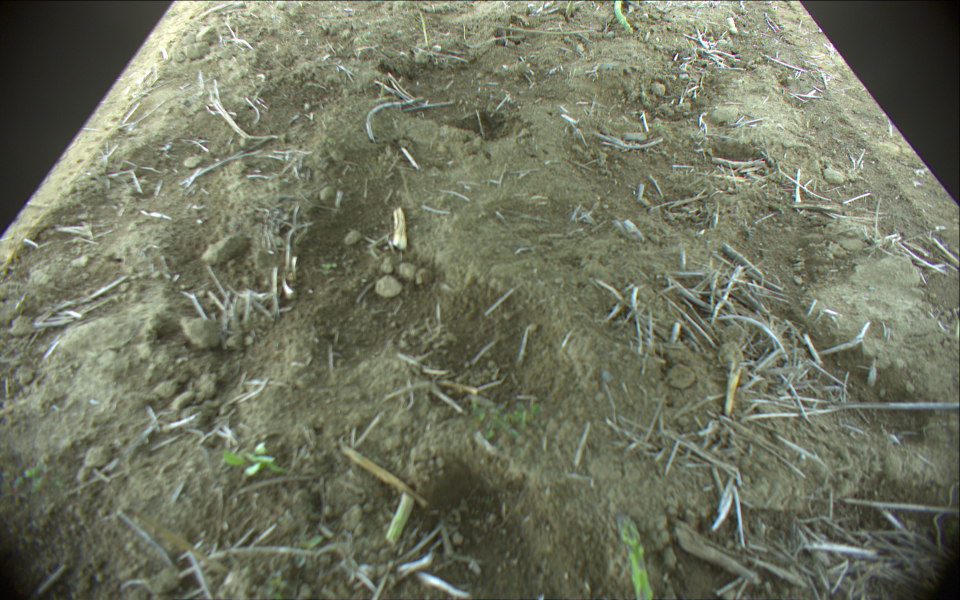aspa: (614, 515, 655, 600), (615, 1, 636, 33)
